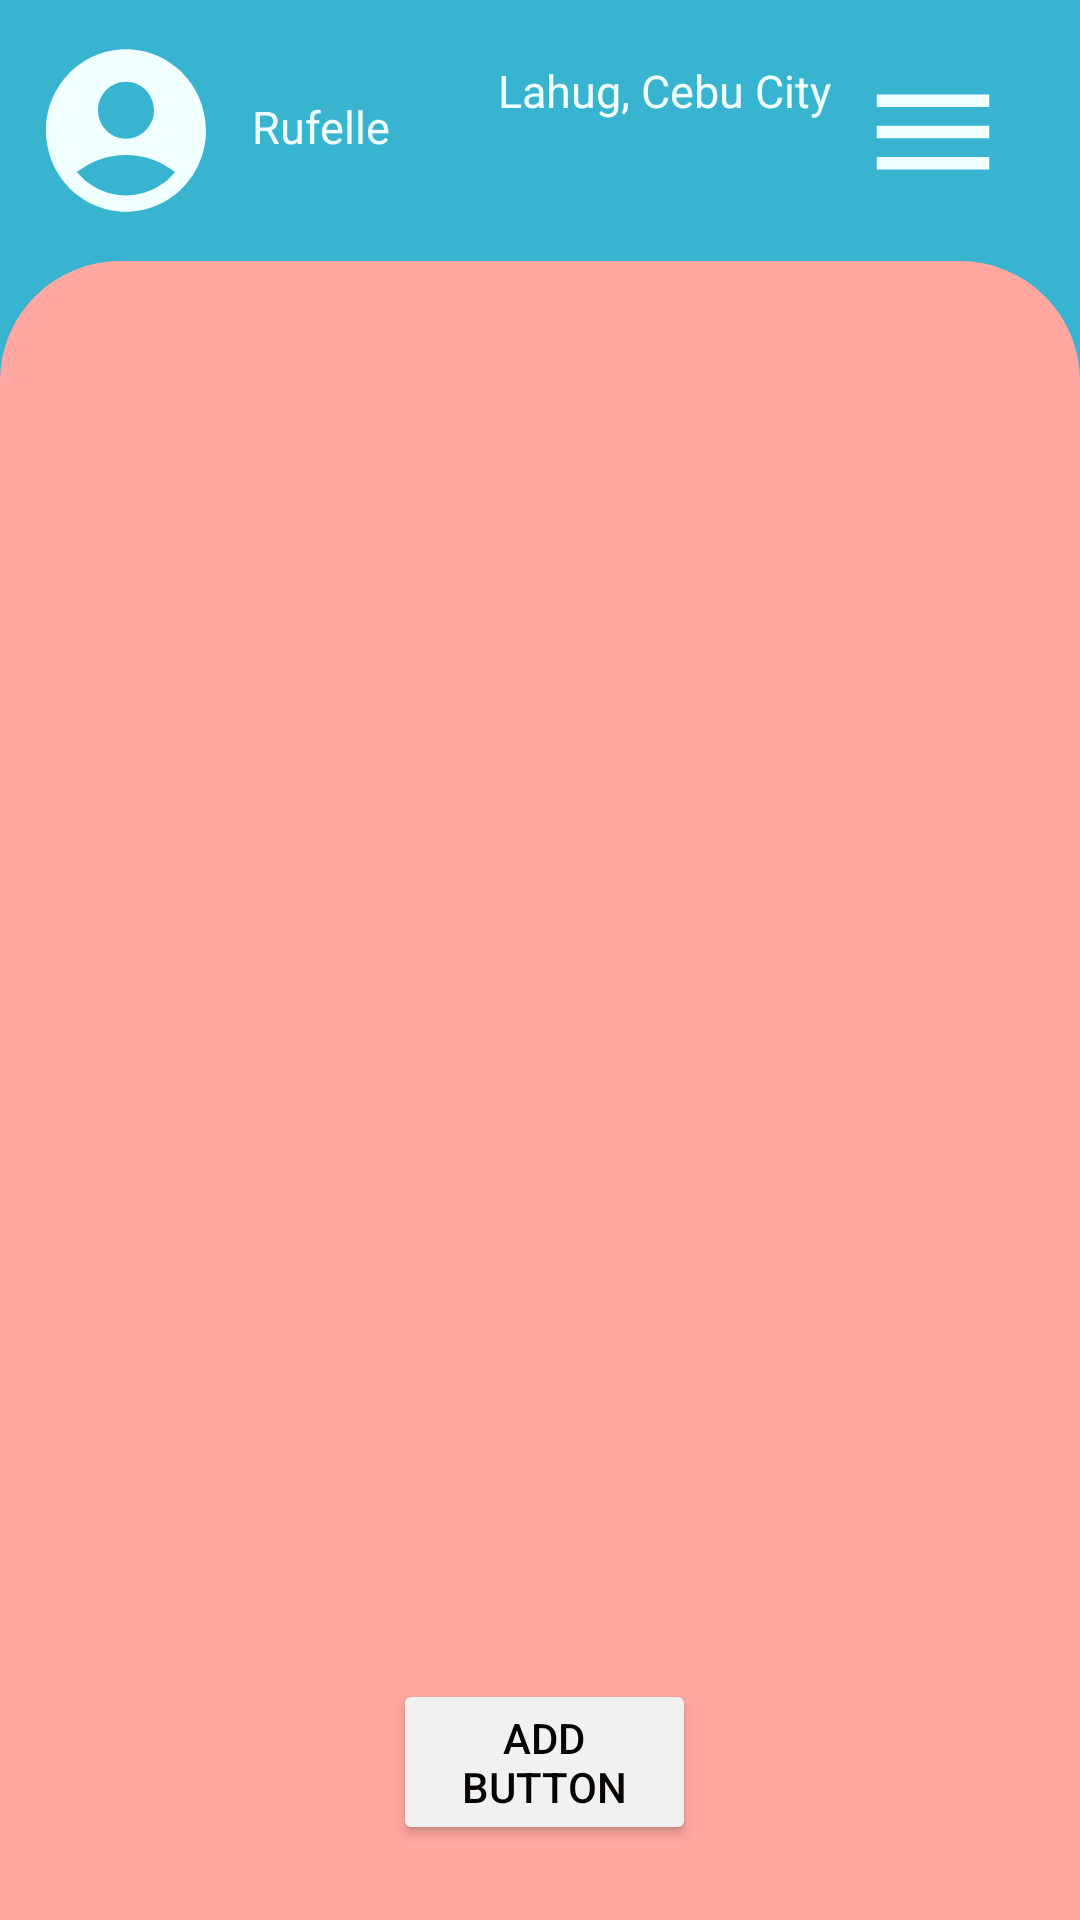

Named icons in this screenshot (1080w x 1920h) and their centers, (x=x, y=y):
menu: (x=933, y=132)
